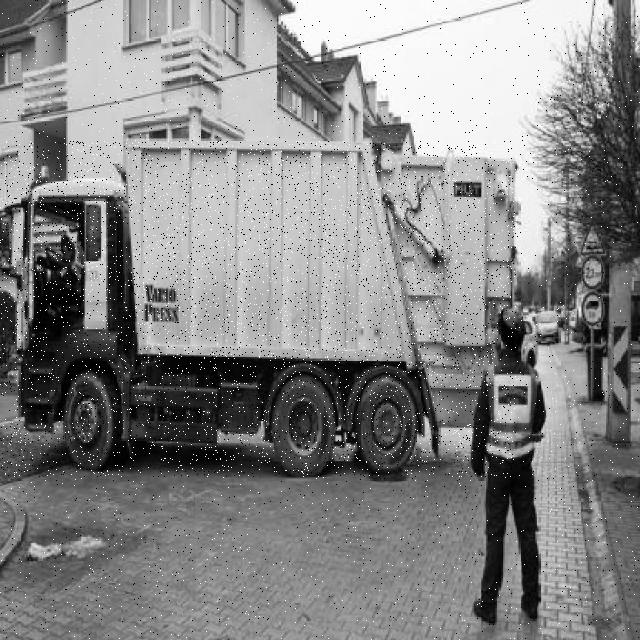Garbage Truck: (0, 141, 516, 477)
